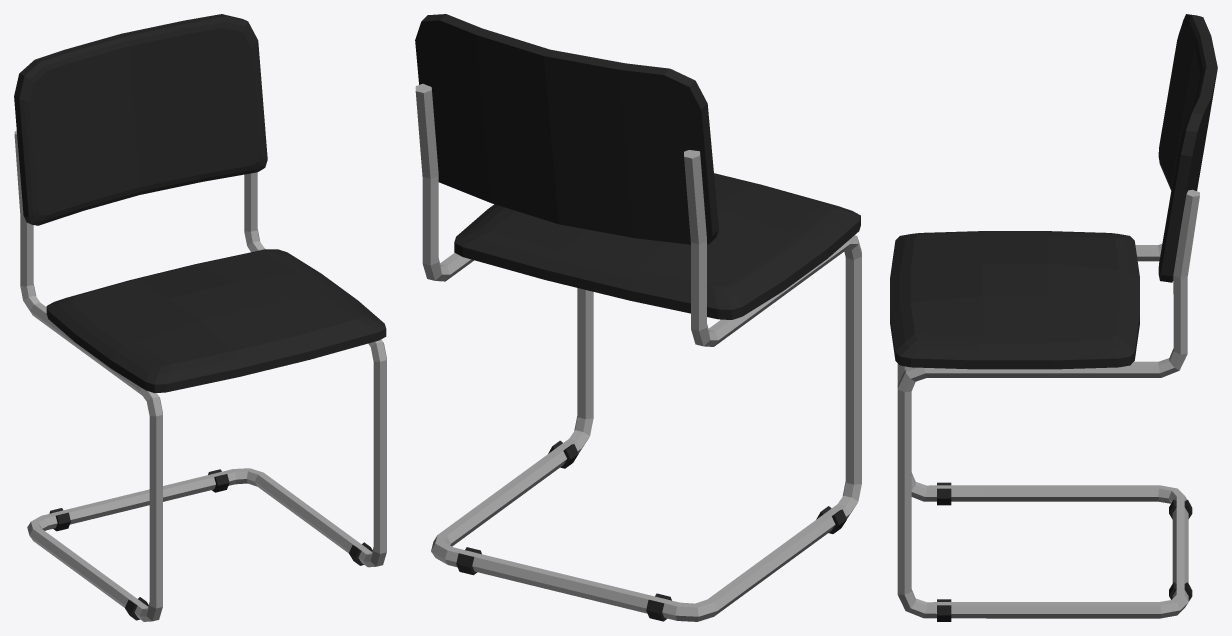
Rendered from SM_Int_Chair02.obj.
The picture shows the model from 3 angles, left to right: view 1: azimuth 30°, elevation 25°; view 2: azimuth 150°, elevation 25°; view 3: azimuth 270°, elevation 25°; orthographic projection. The views are drawn at different scales.
Visible parts, largest first — view 1: SM_Int_Chair02_MI_AtlasSchool01A; view 2: SM_Int_Chair02_MI_AtlasSchool01A; view 3: SM_Int_Chair02_MI_AtlasSchool01A.
Boxes of the visible parts, x1,y1,x2,y2 form: SM_Int_Chair02_MI_AtlasSchool01A: [14, 14, 386, 621]; SM_Int_Chair02_MI_AtlasSchool01A: [415, 14, 861, 621]; SM_Int_Chair02_MI_AtlasSchool01A: [890, 14, 1217, 621].
Size of the model in its own units: 0.5884 by 1.06 by 0.6346.
Materials: 1 (1 with a texture image).
